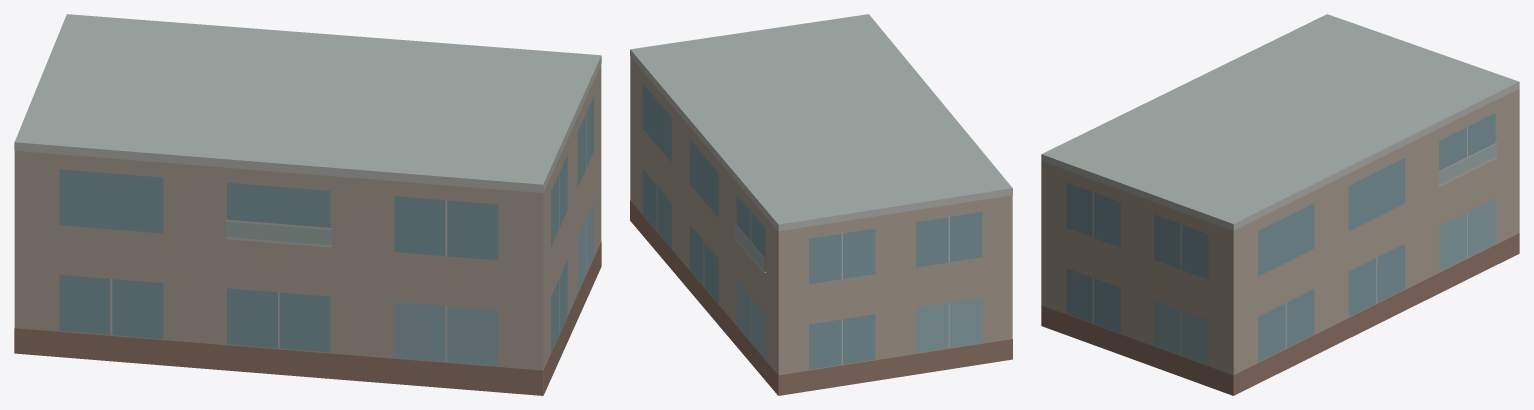
File: survey-upis-32655979.glb
3 renders of one model, left to right at view 1: azimuth 30°, elevation 25°; view 2: azimuth 150°, elevation 25°; view 3: azimuth 270°, elevation 25°, orthographic. The views are drawn at different scales.
Parts seen in each view (by area): view 1: survey-upis-32655979.tmp; view 2: survey-upis-32655979.tmp; view 3: survey-upis-32655979.tmp.
Boxes of the visible parts, x1=… form: survey-upis-32655979.tmp: x1=14, y1=14, x2=601, y2=395; survey-upis-32655979.tmp: x1=630, y1=14, x2=1012, y2=395; survey-upis-32655979.tmp: x1=1041, y1=14, x2=1519, y2=395.
Size of the model in its own units: 16.01 by 6.1 by 15.4.
